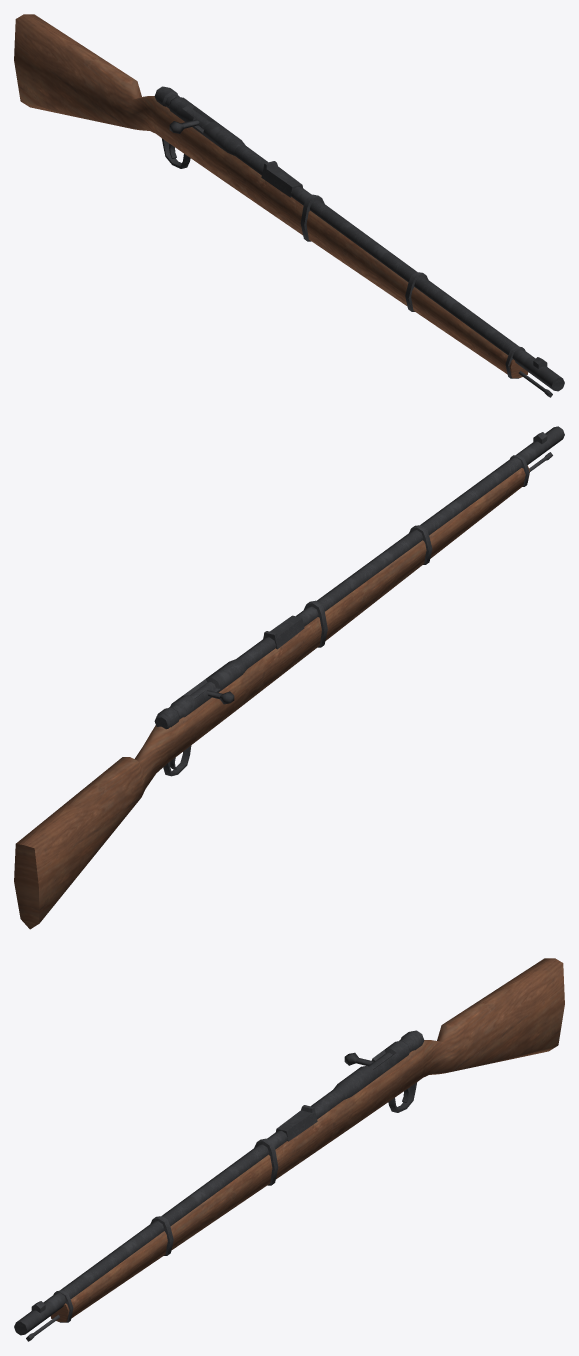
The picture shows the model from 3 angles, top to bottom: view 1: azimuth 30°, elevation 25°; view 2: azimuth 150°, elevation 25°; view 3: azimuth 330°, elevation 25°; orthographic projection.
Parts seen in each view (by area): view 1: 1209_Mauser1871; view 2: 1209_Mauser1871; view 3: 1209_Mauser1871.
Boxes of the visible parts, left/top/right/bottom form: 1209_Mauser1871: left=14, top=14, right=564, bottom=397; 1209_Mauser1871: left=14, top=426, right=564, bottom=929; 1209_Mauser1871: left=14, top=958, right=564, bottom=1341.
Size of the model in its own units: 5.85 by 15.95 by 126.
Materials: 1 (1 with a texture image).
